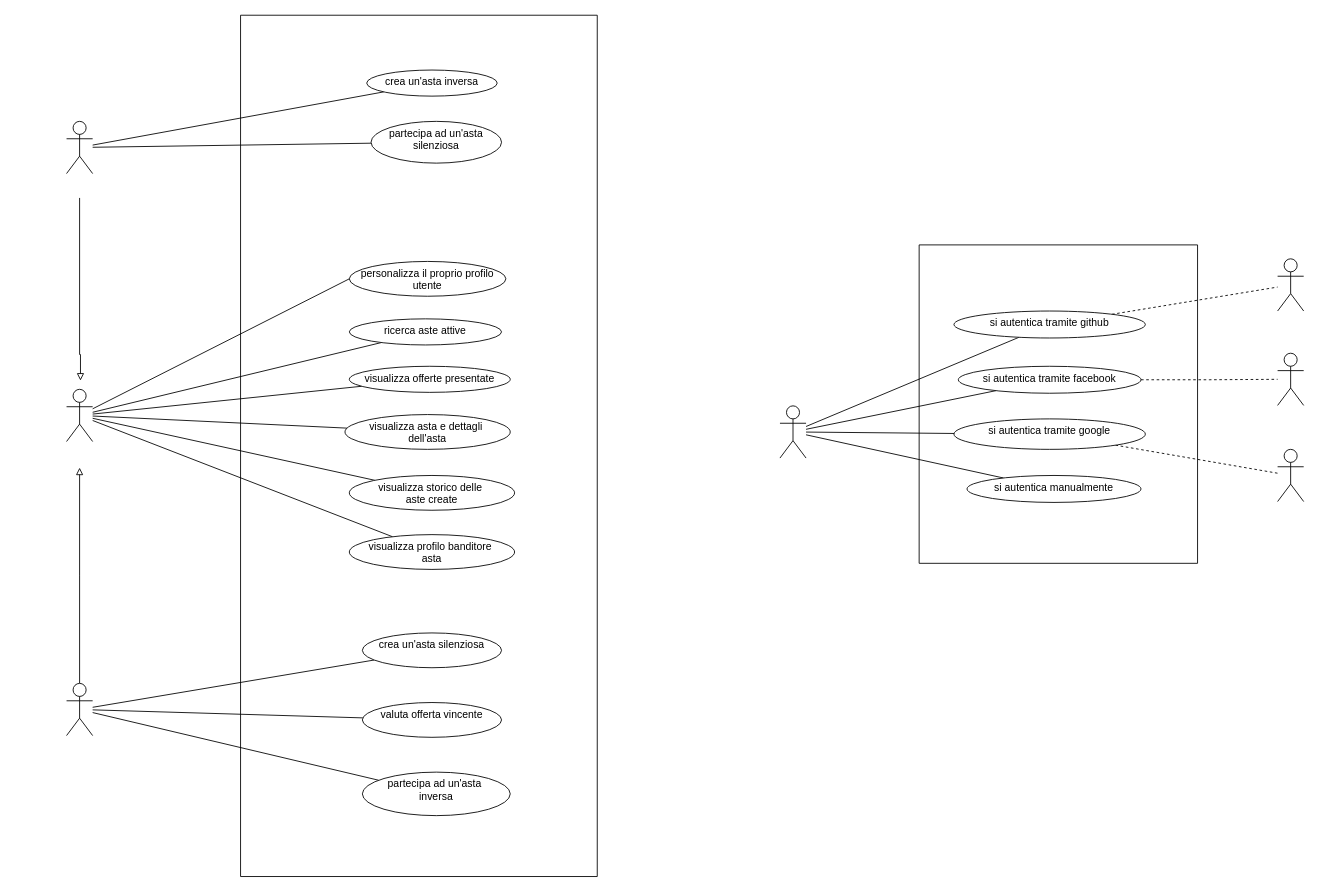
This 1336x892 diagram has some shape labels left out. Here are the shapes that lost their labels. From the top down, the box of each, then its label:
(66, 120, 93, 174): Utente modalità compratore
(1277, 258, 1304, 311): API github
(1277, 352, 1304, 405): API facebook
(66, 388, 93, 442): Utente autenticato
(779, 405, 806, 458): Utente non autenticato
(1277, 448, 1304, 502): API google
(66, 683, 93, 736): Utente modalità venditore
